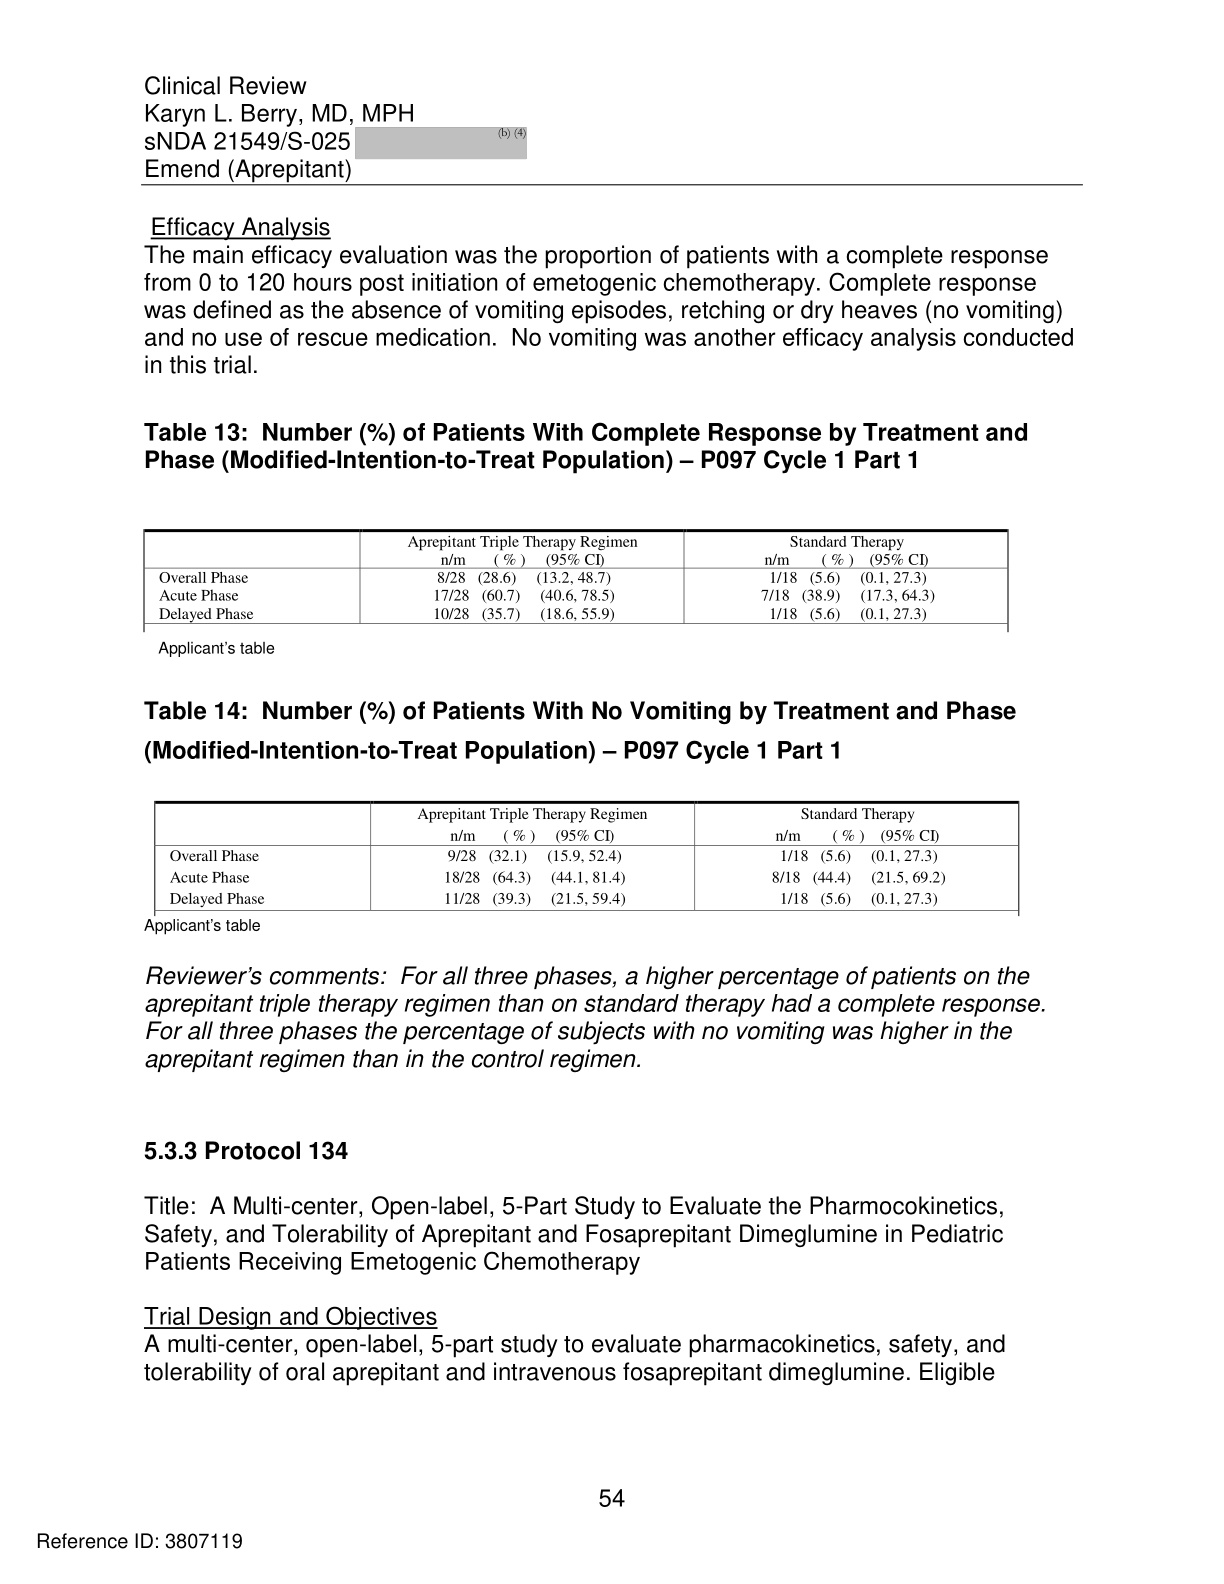partial_lined_merged_cells: (153, 800, 1020, 912), (141, 528, 1011, 626)
